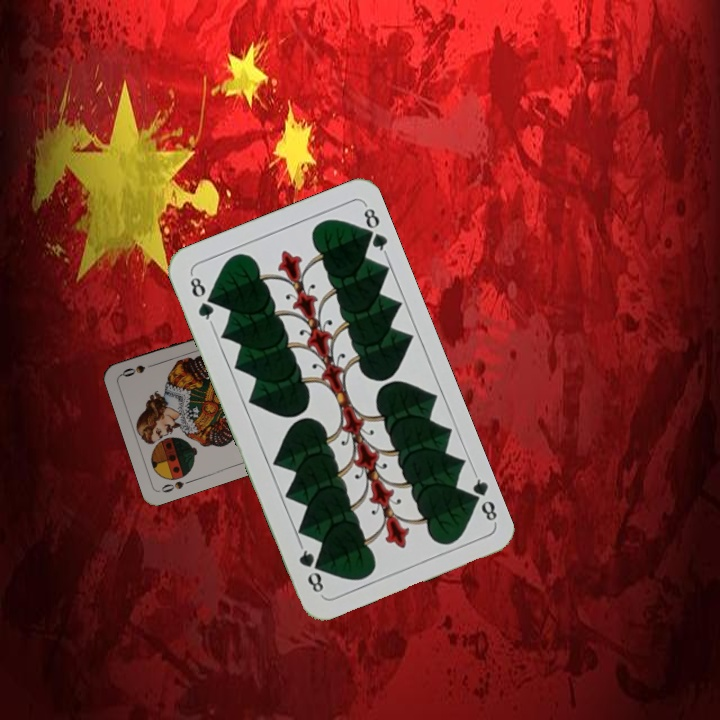G8: (463, 469, 500, 526), (185, 270, 217, 327)
SO: (157, 475, 196, 495)
